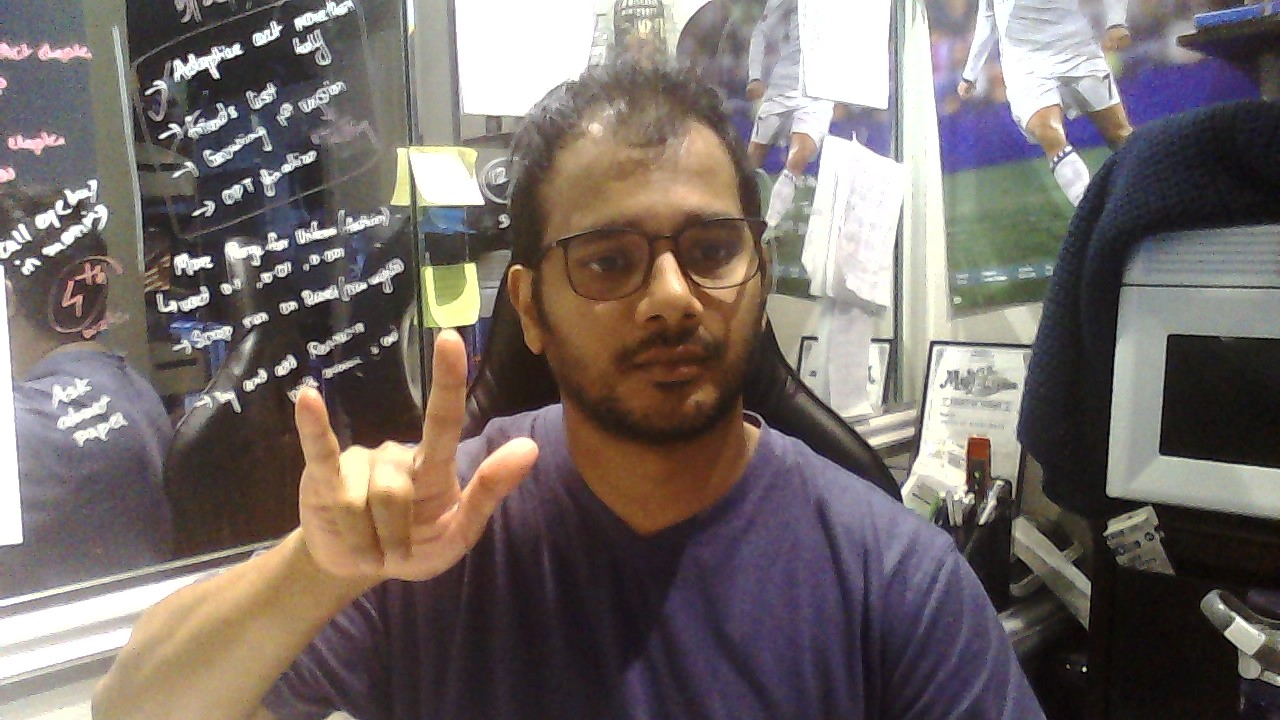ILoveYou: (294, 327, 538, 583)
